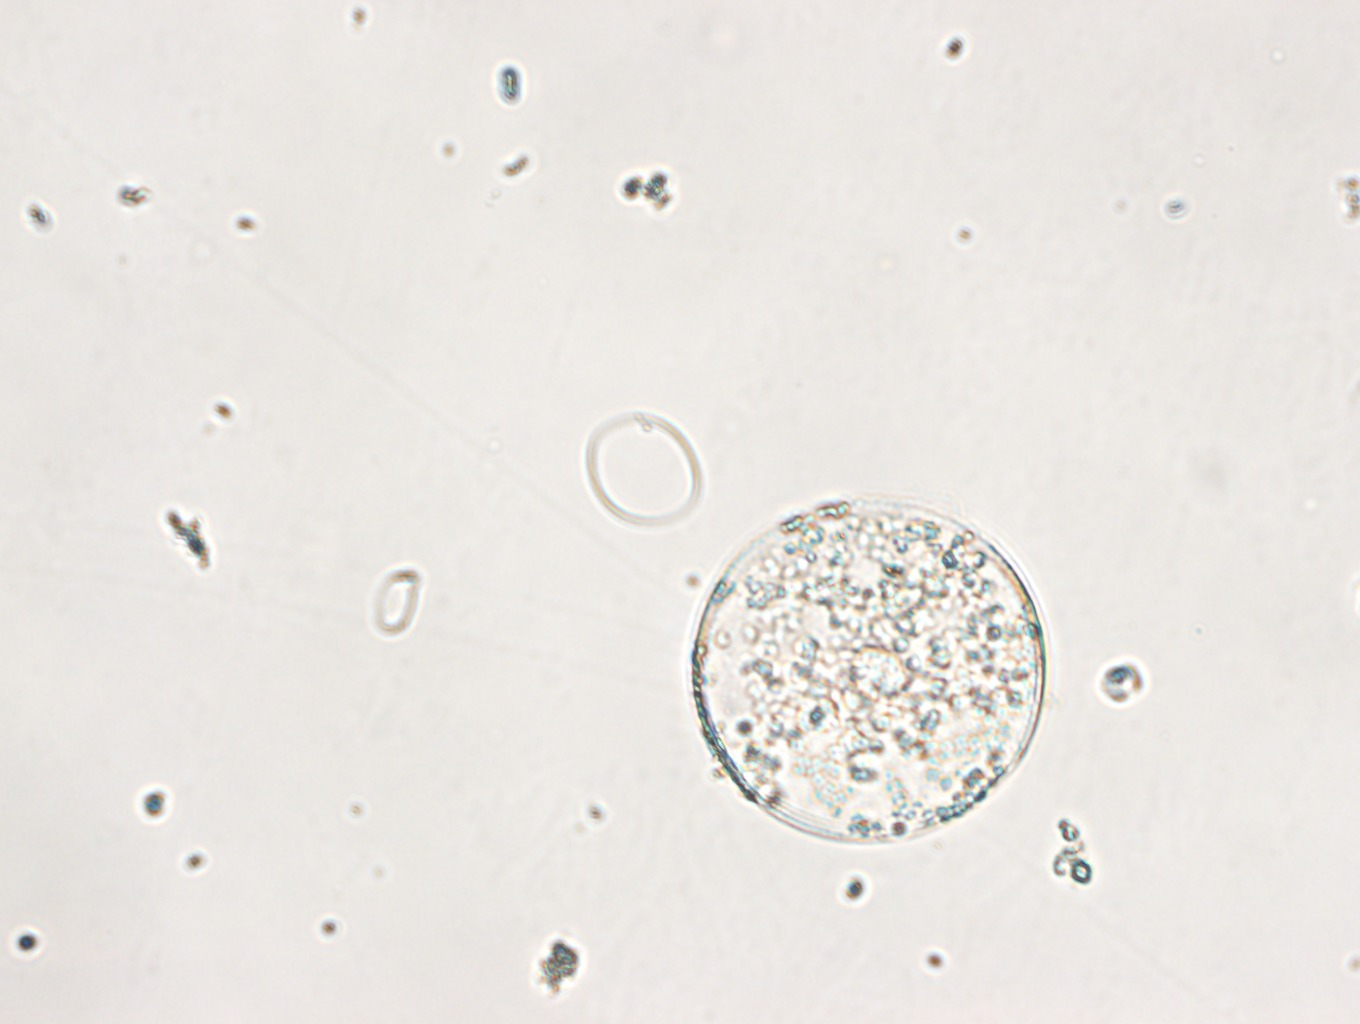coscinodiscus: (683, 502, 1053, 847)
